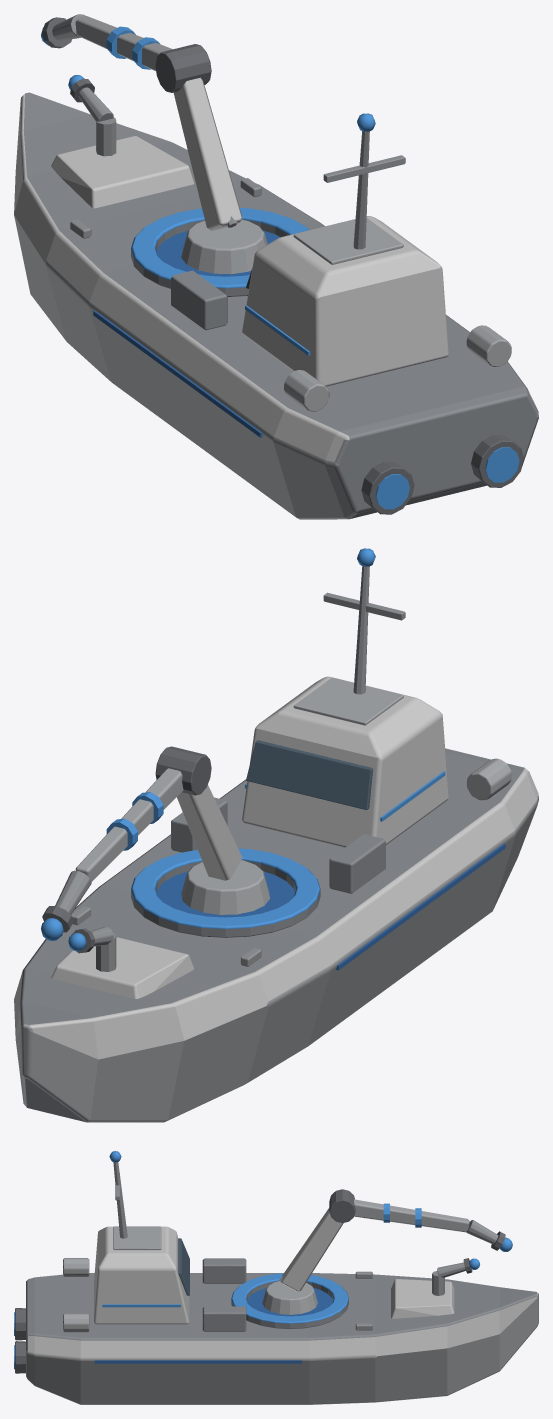
The model's file is lattice_builder_sea.glb.
3 renders of one model, top to bottom at view 1: azimuth 30°, elevation 25°; view 2: azimuth 150°, elevation 25°; view 3: azimuth 270°, elevation 25°, orthographic. The views are drawn at different scales.
Parts seen in each view (by area): view 1: Body; view 2: Body; view 3: Body.
Boxes of the visible parts, box(x1,y1,x2,y2) form: Body: box(14, 14, 538, 519); Body: box(14, 548, 538, 1122); Body: box(14, 1151, 538, 1404).
Bounding box in the file's own units: 0.806 × 1.14 × 2.41.
